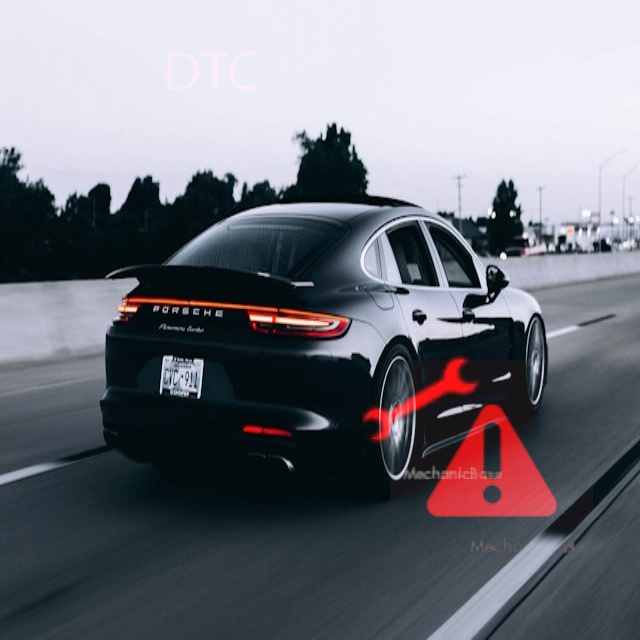symbol: (390, 360, 593, 563), (335, 314, 509, 488), (140, 0, 285, 145)
